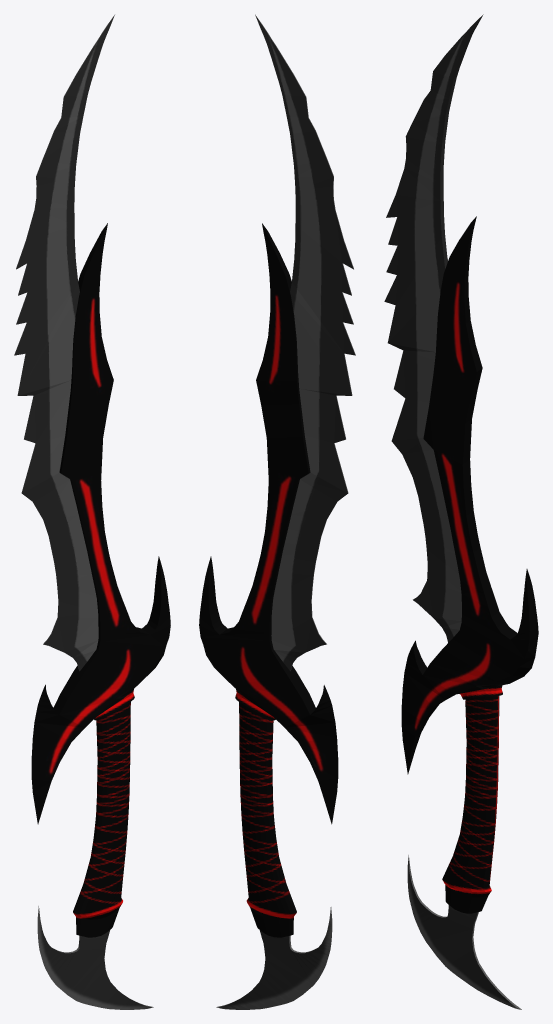
File: ESPADA_FIFIS.fbx
3 views of the same model, side by side, from view 1: azimuth 30°, elevation 25°; view 2: azimuth 150°, elevation 25°; view 3: azimuth 330°, elevation 25° (orthographic).
Parts seen in each view (by area): view 1: ESPADAMESHEANDO_CHECK1:pCube4; view 2: ESPADAMESHEANDO_CHECK1:pCube4; view 3: ESPADAMESHEANDO_CHECK1:pCube4.
Part boxes in pixels (x1,y1,x2,y2): ESPADAMESHEANDO_CHECK1:pCube4: (14, 15, 170, 1009); ESPADAMESHEANDO_CHECK1:pCube4: (199, 14, 355, 1009); ESPADAMESHEANDO_CHECK1:pCube4: (384, 14, 538, 1009).
Size of the model in its own units: 1.7 by 10.55 by 0.1822.
Materials: 1 (1 with a texture image).
